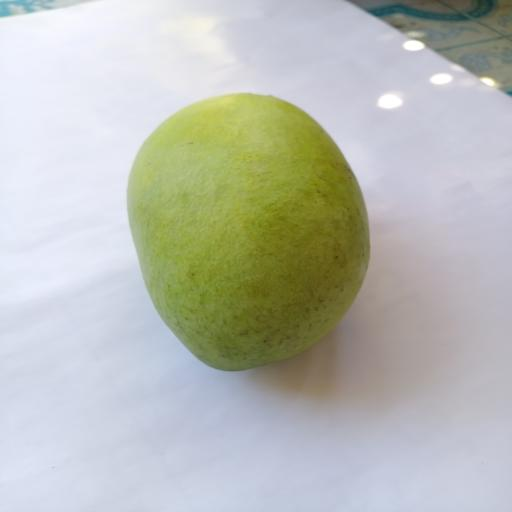mango-unripe: (111, 81, 387, 391)
